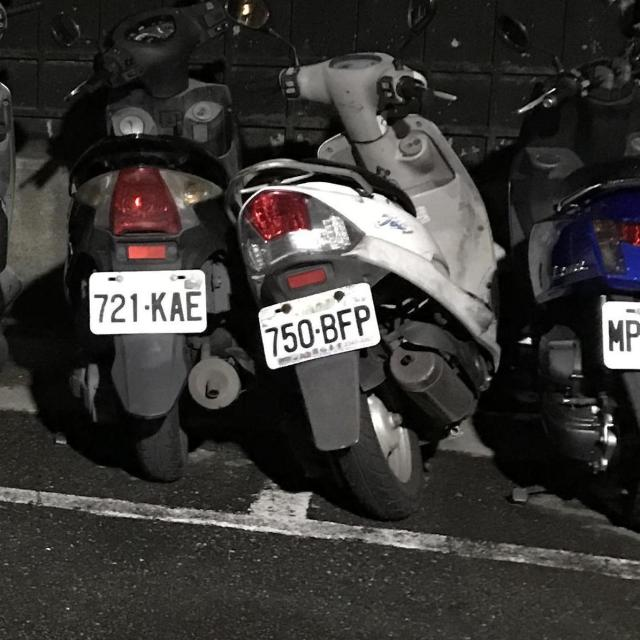W: (252, 279, 390, 371), (85, 263, 212, 341), (592, 290, 640, 378)
